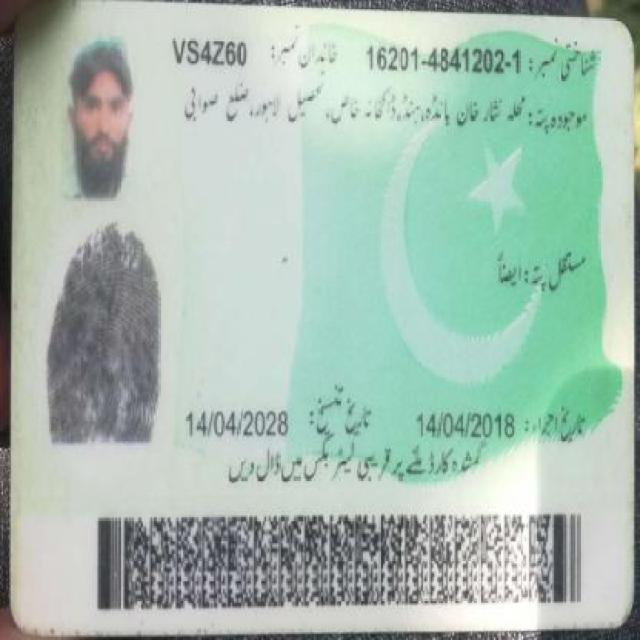Back: (11, 19, 629, 623)
